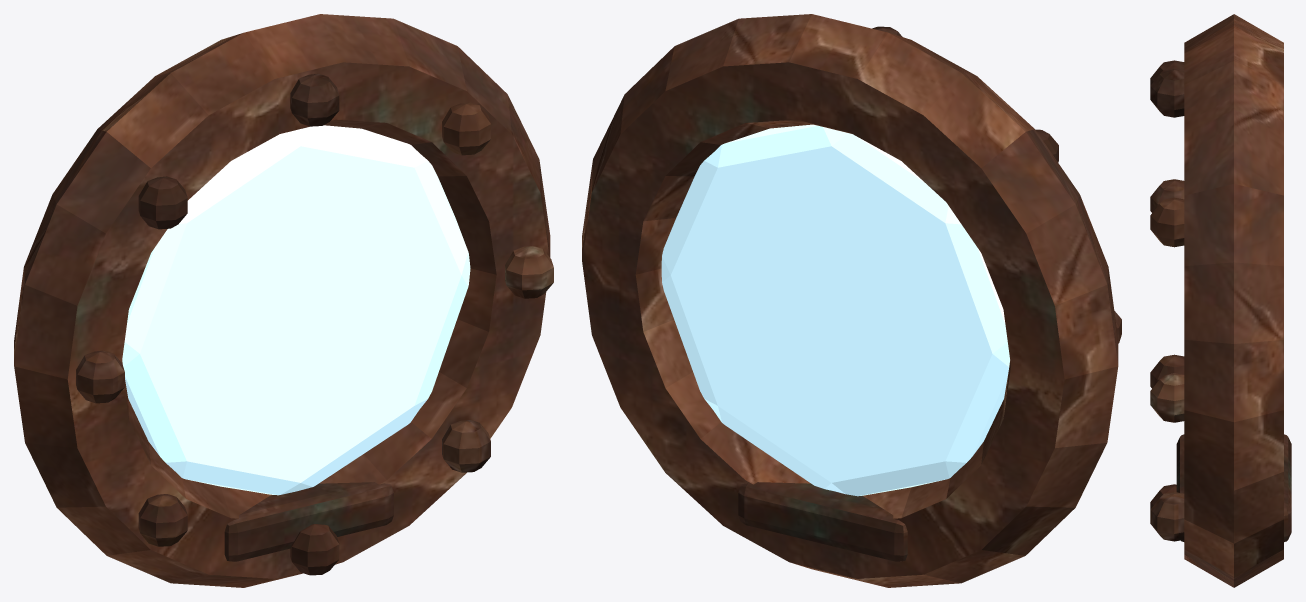
Rendered from lantern_lens.glb.
3 renders of one model, left to right at view 1: azimuth 30°, elevation 25°; view 2: azimuth 150°, elevation 25°; view 3: azimuth 270°, elevation 25°, orthographic. The views are drawn at different scales.
Visible parts, largest first — view 1: model; view 2: model; view 3: model.
Boxes of the visible parts, left/top/right/bottom form: model: left=14, top=14, right=553, bottom=587; model: left=582, top=14, right=1121, bottom=587; model: left=1150, top=14, right=1291, bottom=587.
Size of the model in its own units: 0.25 by 0.2475 by 0.0615.
3 materials, 2 textured.
